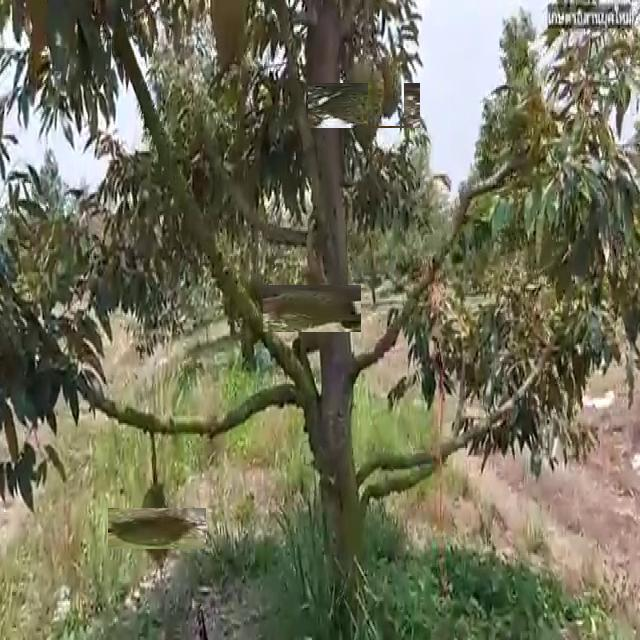durian: (324, 66, 403, 145), (276, 272, 348, 345), (122, 494, 192, 564), (368, 50, 404, 126)
